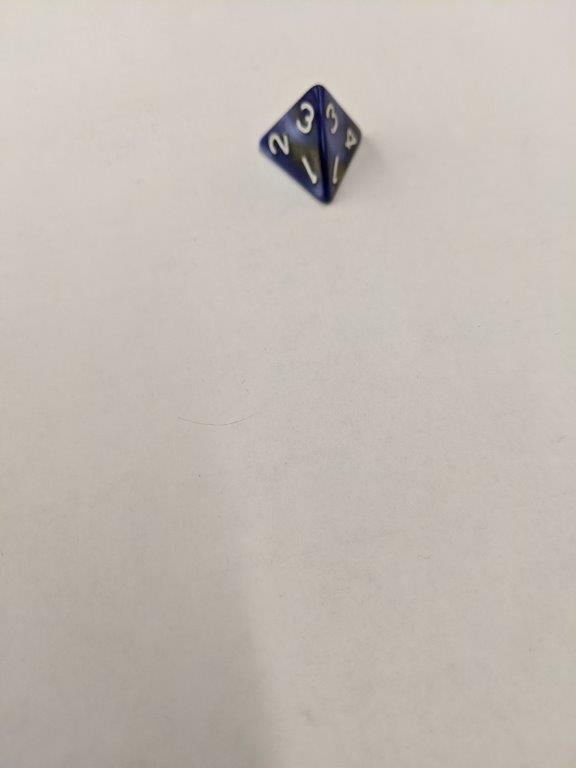d4-3: (253, 81, 366, 208)
